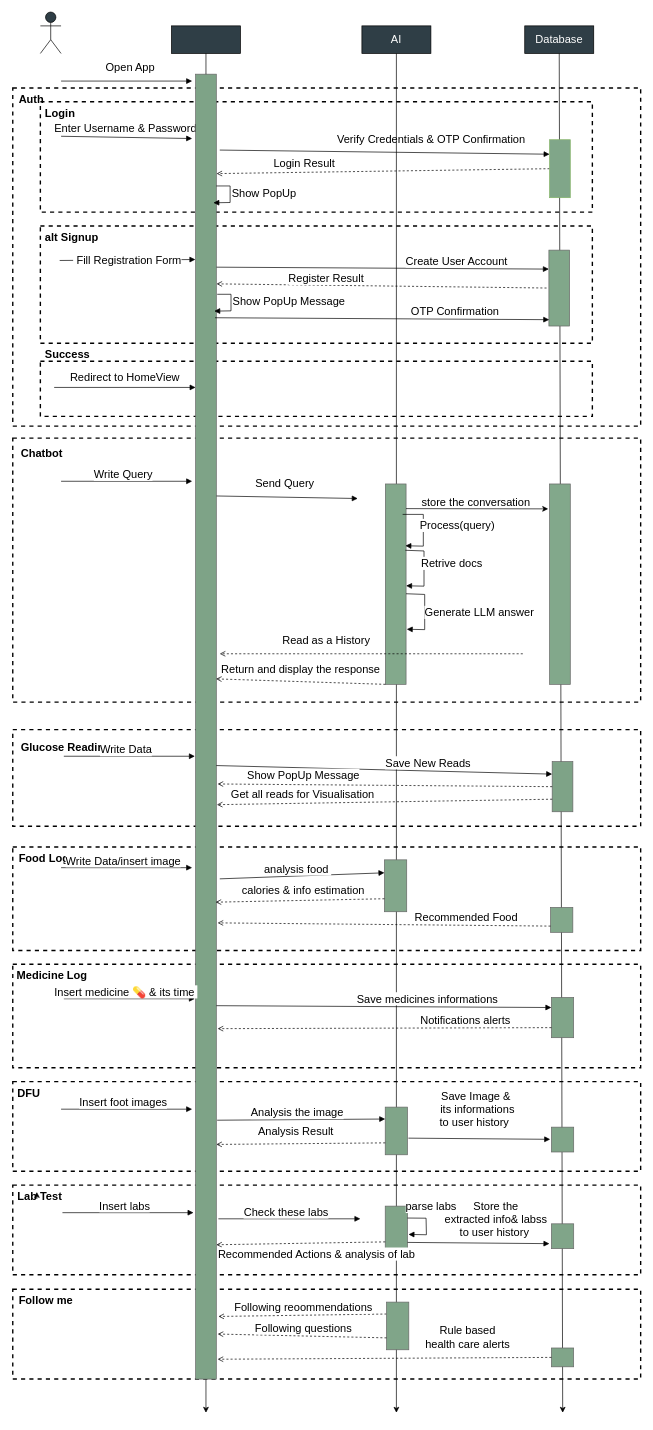
Image size: 653x1430. Some labels were removed from this diagram. The centre of each missing label's shape, as x and y in pixels:
"Mobile App" goes at pixel 205 39.
"Patient" goes at pixel 50 32.
